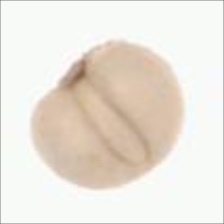L5: (74, 81, 153, 166), (123, 142, 177, 185), (51, 52, 91, 94)
L6: (28, 37, 189, 193)
